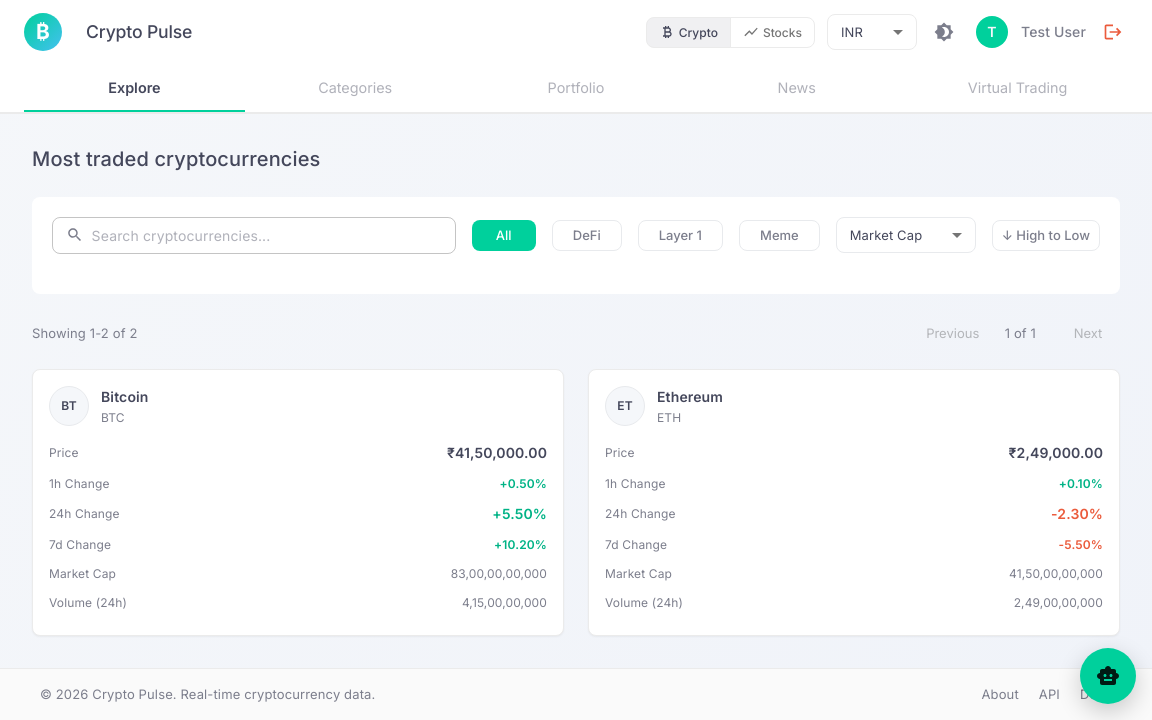
Test case: App Integration Tests › should change currency
Click the dropdown named "select currency".
click(852, 32)  # box left=841, top=24, right=863, bottom=40
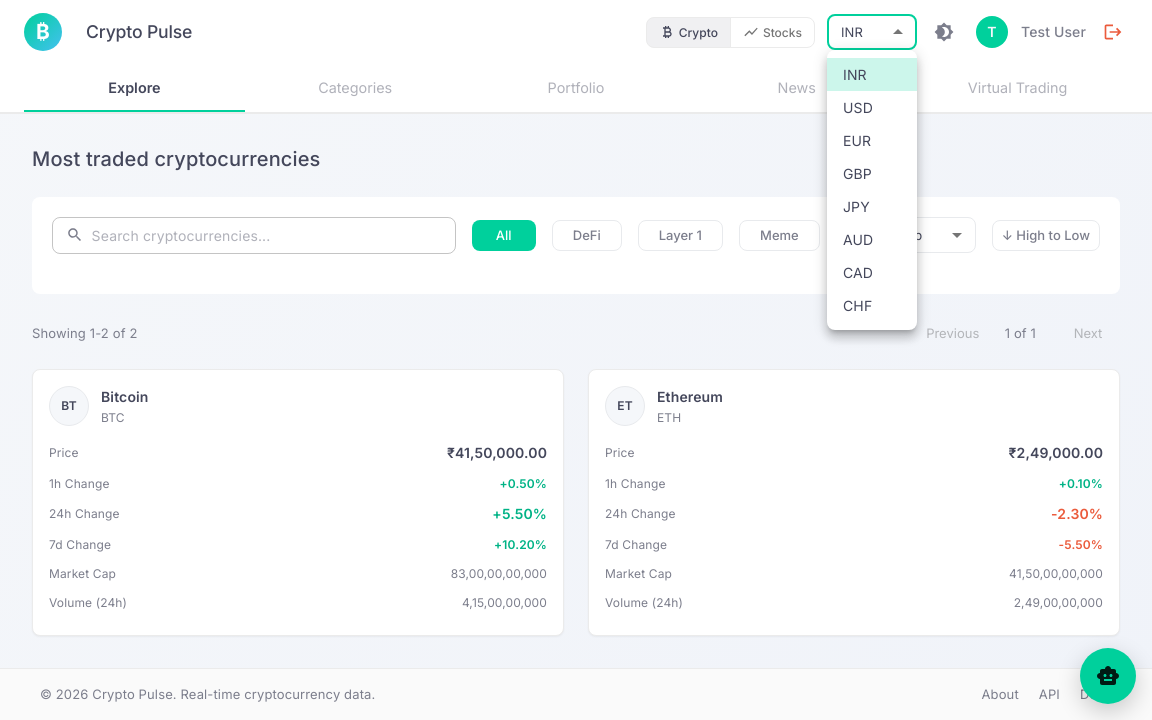
Click the option "EUR".
click(857, 140)  # box left=843, top=132, right=871, bottom=149
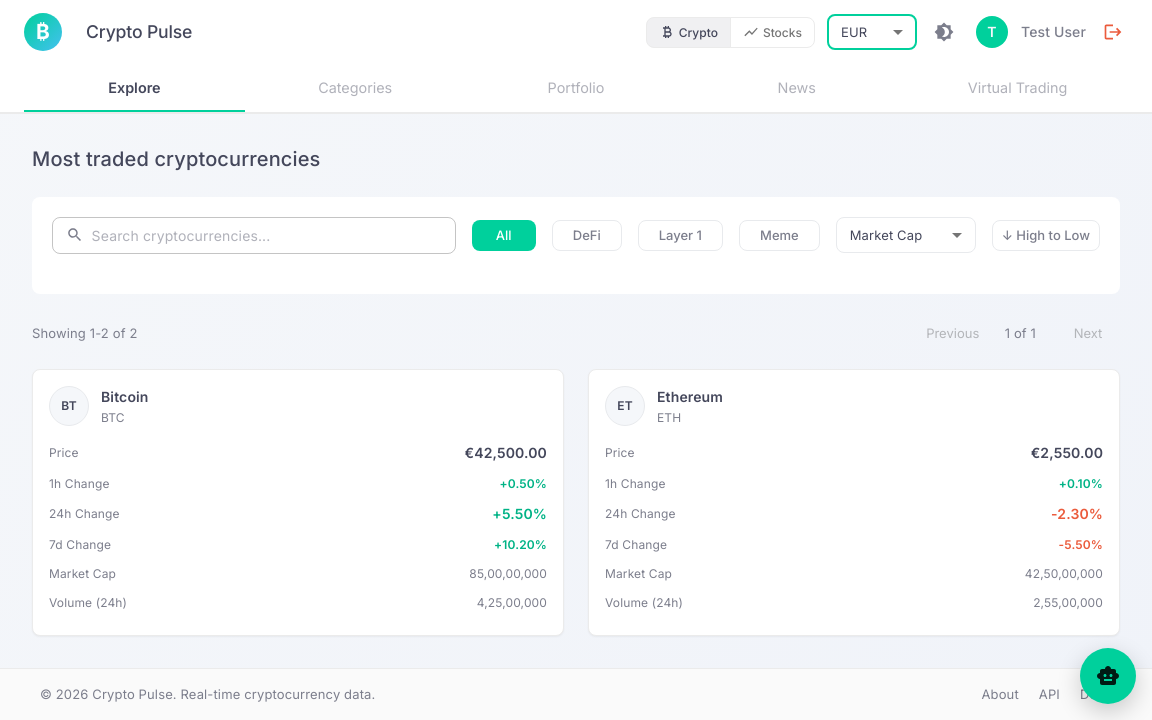
Expected: the dropdown named "select currency" reads "EUR", left=841, top=24, right=867, bottom=40
